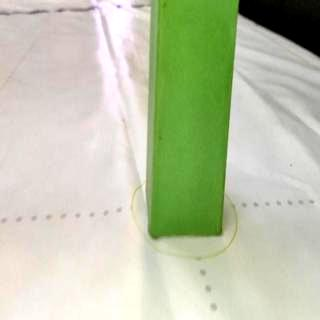greenbox: (146, 0, 240, 236)
